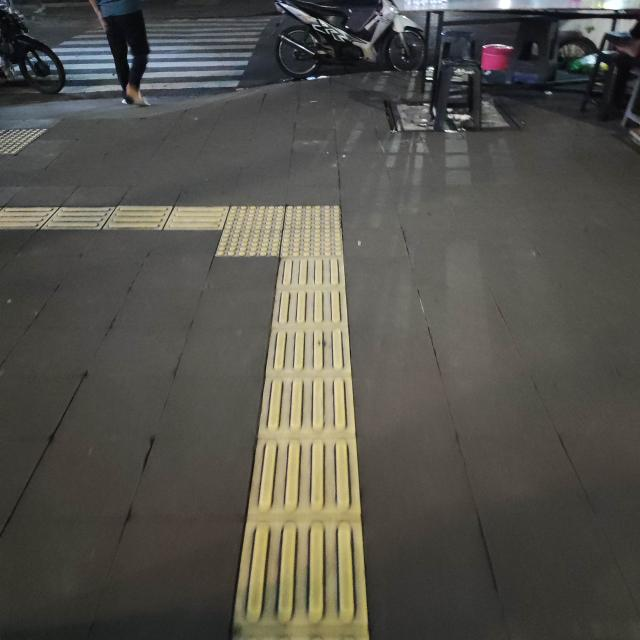kiri: (104, 177, 382, 297)
